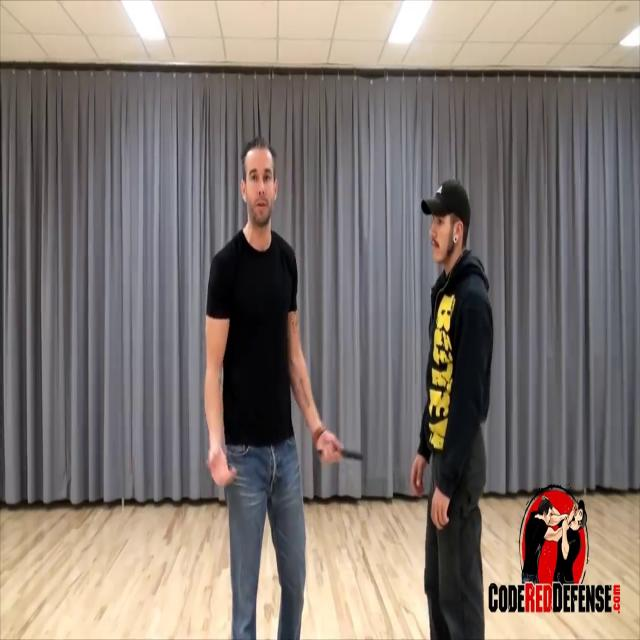Knife_Handle: (315, 429, 366, 464)
